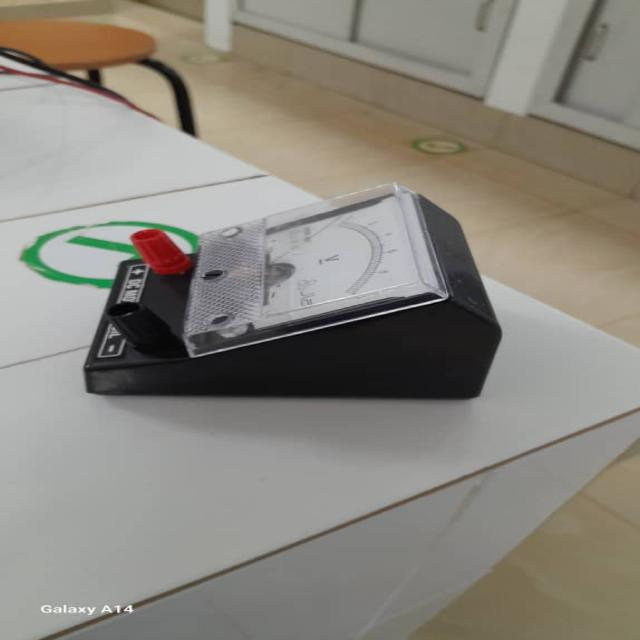Voltmeter: (76, 182, 498, 413)
